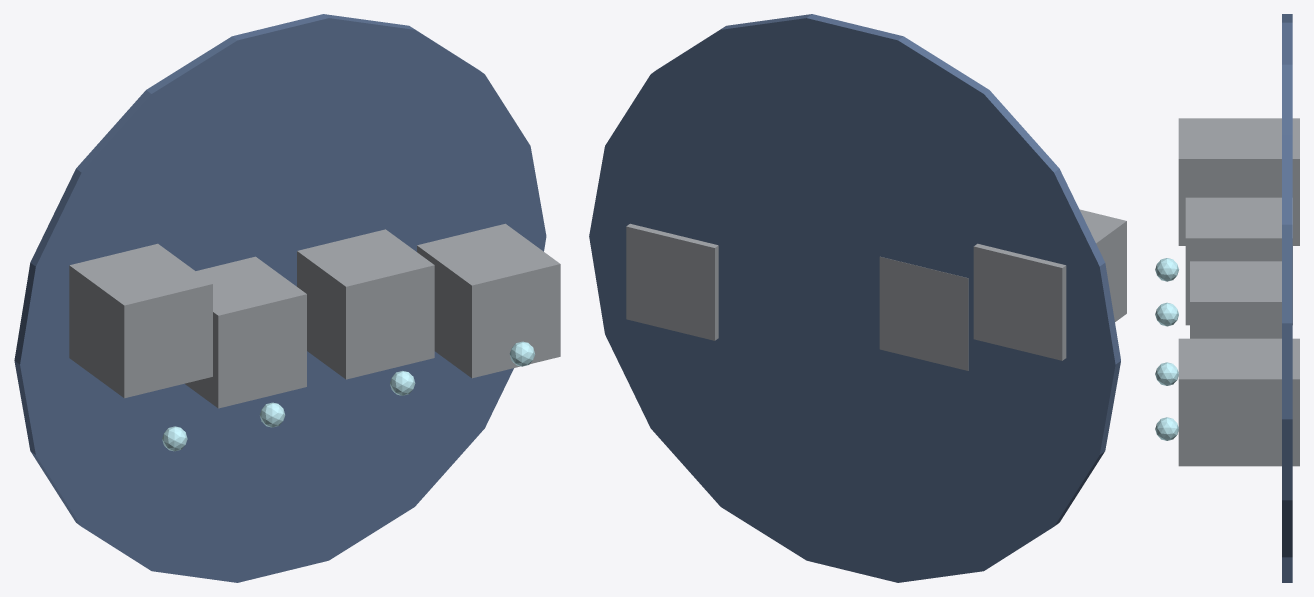
File: 02_local_prop_cluster.glb
3 views of the same model, side by side, from view 1: azimuth 30°, elevation 25°; view 2: azimuth 150°, elevation 25°; view 3: azimuth 270°, elevation 25° (orthographic). The views are drawn at different scales.
Parts seen in each view (by area): view 1: scatter_base, tech_crate_0, tech_crate_2, tech_crate_3, tech_crate_1; view 2: scatter_base, tech_crate_0, tech_crate_3, tech_crate_1; view 3: tech_crate_3, tech_crate_0, tech_crate_2, tech_crate_1, scatter_base, status_light_1, status_light_0, status_light_2, status_light_3.
Part boxes in pixels (x1,y1,x2,y2): scatter_base: [14, 14, 546, 582]; tech_crate_0: [69, 243, 212, 398]; tech_crate_2: [297, 229, 434, 379]; tech_crate_3: [417, 223, 560, 378]; tech_crate_1: [185, 256, 306, 408]; scatter_base: [589, 14, 1120, 582]; tech_crate_0: [973, 209, 1126, 360]; tech_crate_3: [626, 223, 718, 340]; tech_crate_1: [879, 256, 968, 370]; tech_crate_3: [1178, 338, 1299, 466]; tech_crate_0: [1178, 118, 1299, 245]; tech_crate_2: [1190, 261, 1281, 338]; tech_crate_1: [1185, 197, 1292, 325]; scatter_base: [1282, 14, 1292, 582]; status_light_1: [1155, 302, 1178, 326]; status_light_0: [1155, 258, 1178, 281]; status_light_2: [1155, 362, 1178, 385]; status_light_3: [1155, 417, 1178, 440].
Size of the model in its own units: 1.9 by 1.87 by 0.4815.
